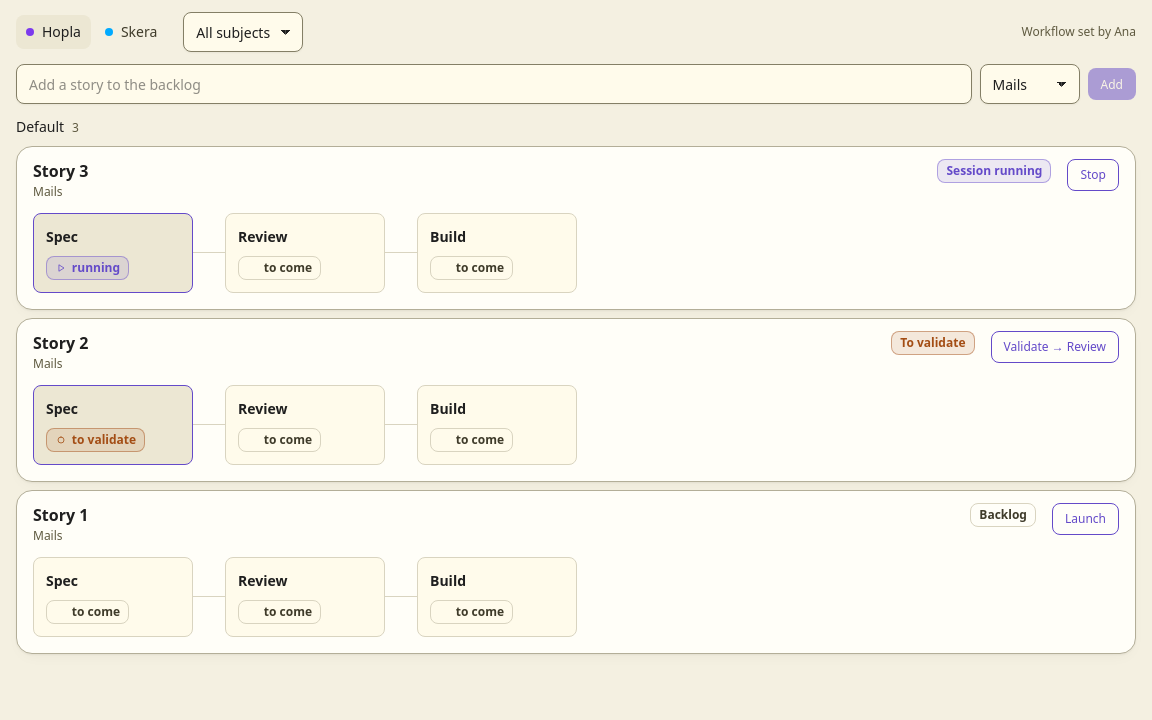
it: the flow › shows the refusal of the board when a move is refused
The width and height of the screenshot is (1152, 720).
Click the button "Launch" at (1086, 519), box x1=1052 y1=503 x2=1119 y2=535
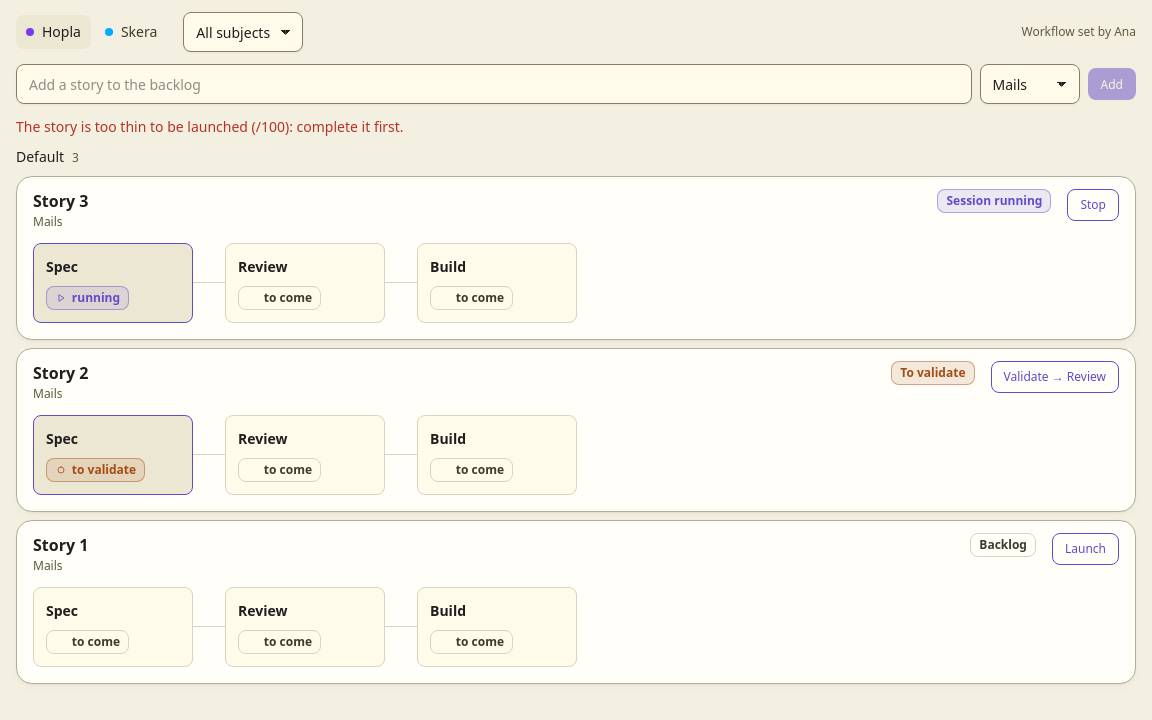
Now the message "The story is too thin to be launched (/100): complete it first." is shown, box x1=16 y1=117 x2=404 y2=136
